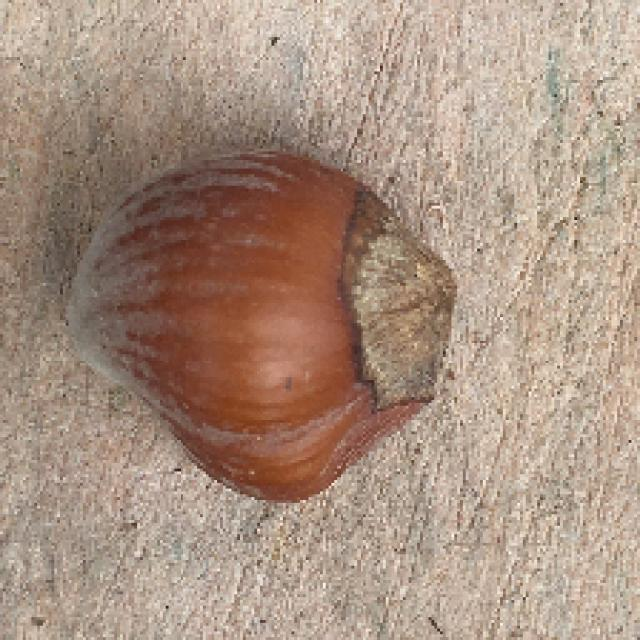QualityHazelnut: (67, 149, 454, 502)
